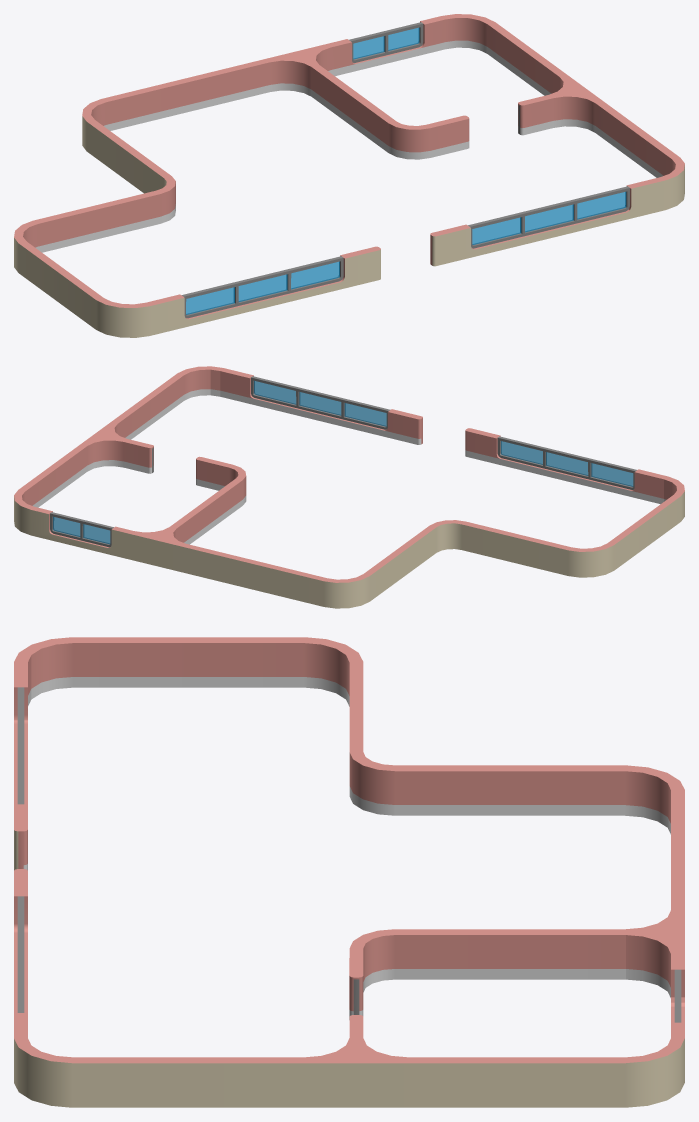
Rendered from walls.fbx.
3 renders of one model, top to bottom at view 1: azimuth 30°, elevation 25°; view 2: azimuth 150°, elevation 25°; view 3: azimuth 270°, elevation 25°, orthographic. The views are drawn at different scales.
Visible parts, largest first — view 1: walls; view 2: walls; view 3: walls.
Part boxes in pixels (left/top/right/bottom): walls: left=14, top=14, right=684, bottom=337; walls: left=14, top=366, right=684, bottom=608; walls: left=14, top=637, right=684, bottom=1107.
Size of the model in its own units: 4956 by 242 by 3299.
